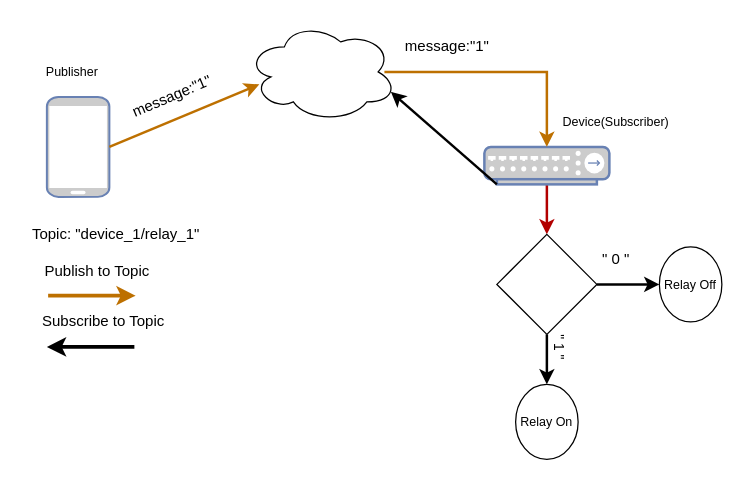
The diagram is 744 pixels wide and 481 high, and some of its shapes have lost their labels. The centre of each missing label's shape, as x and y in pixels:
"Broker" goes at point 321,71.
"message" goes at point 546,283.
